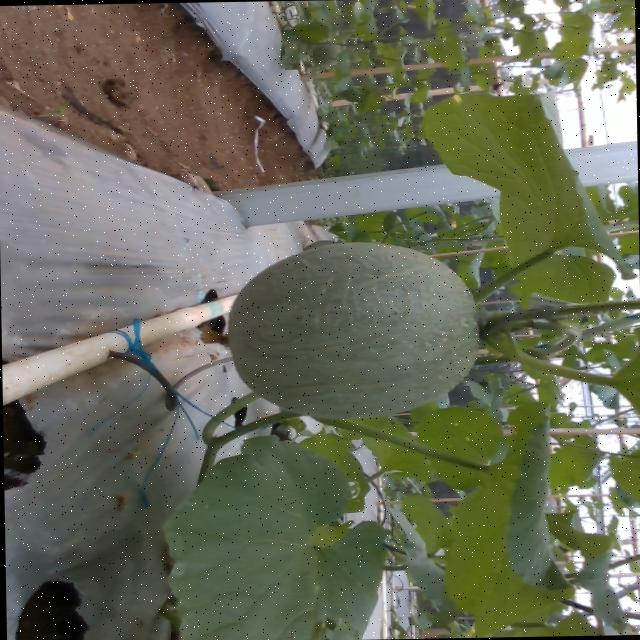melon: (228, 243, 478, 419)
